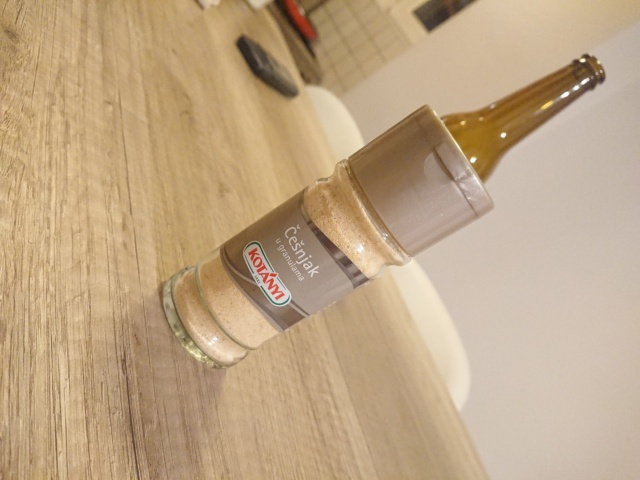Kotanyi Garlic Granules 70g: (158, 100, 500, 373)
